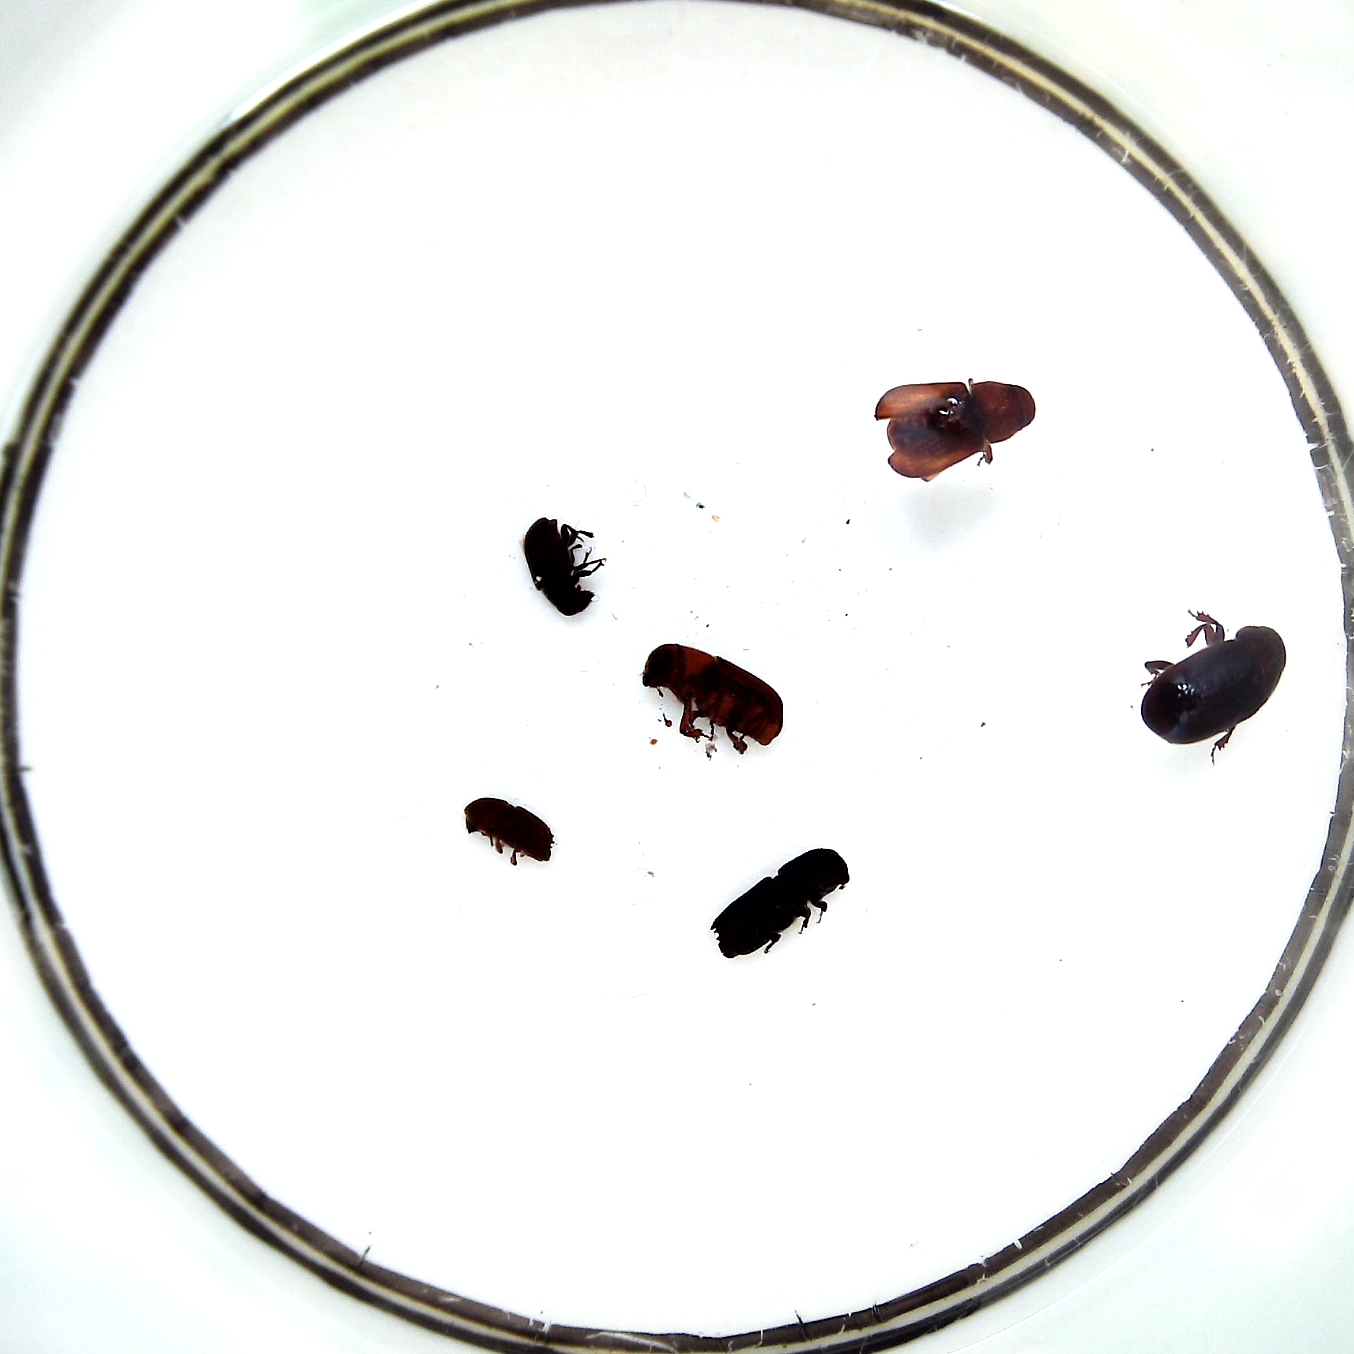Boerner: (710, 847, 852, 958)
Leconte: (1141, 624, 1286, 744), (874, 376, 1035, 476), (642, 644, 782, 746)
armandi: (523, 517, 595, 617)
linnaeus: (465, 797, 554, 863)
